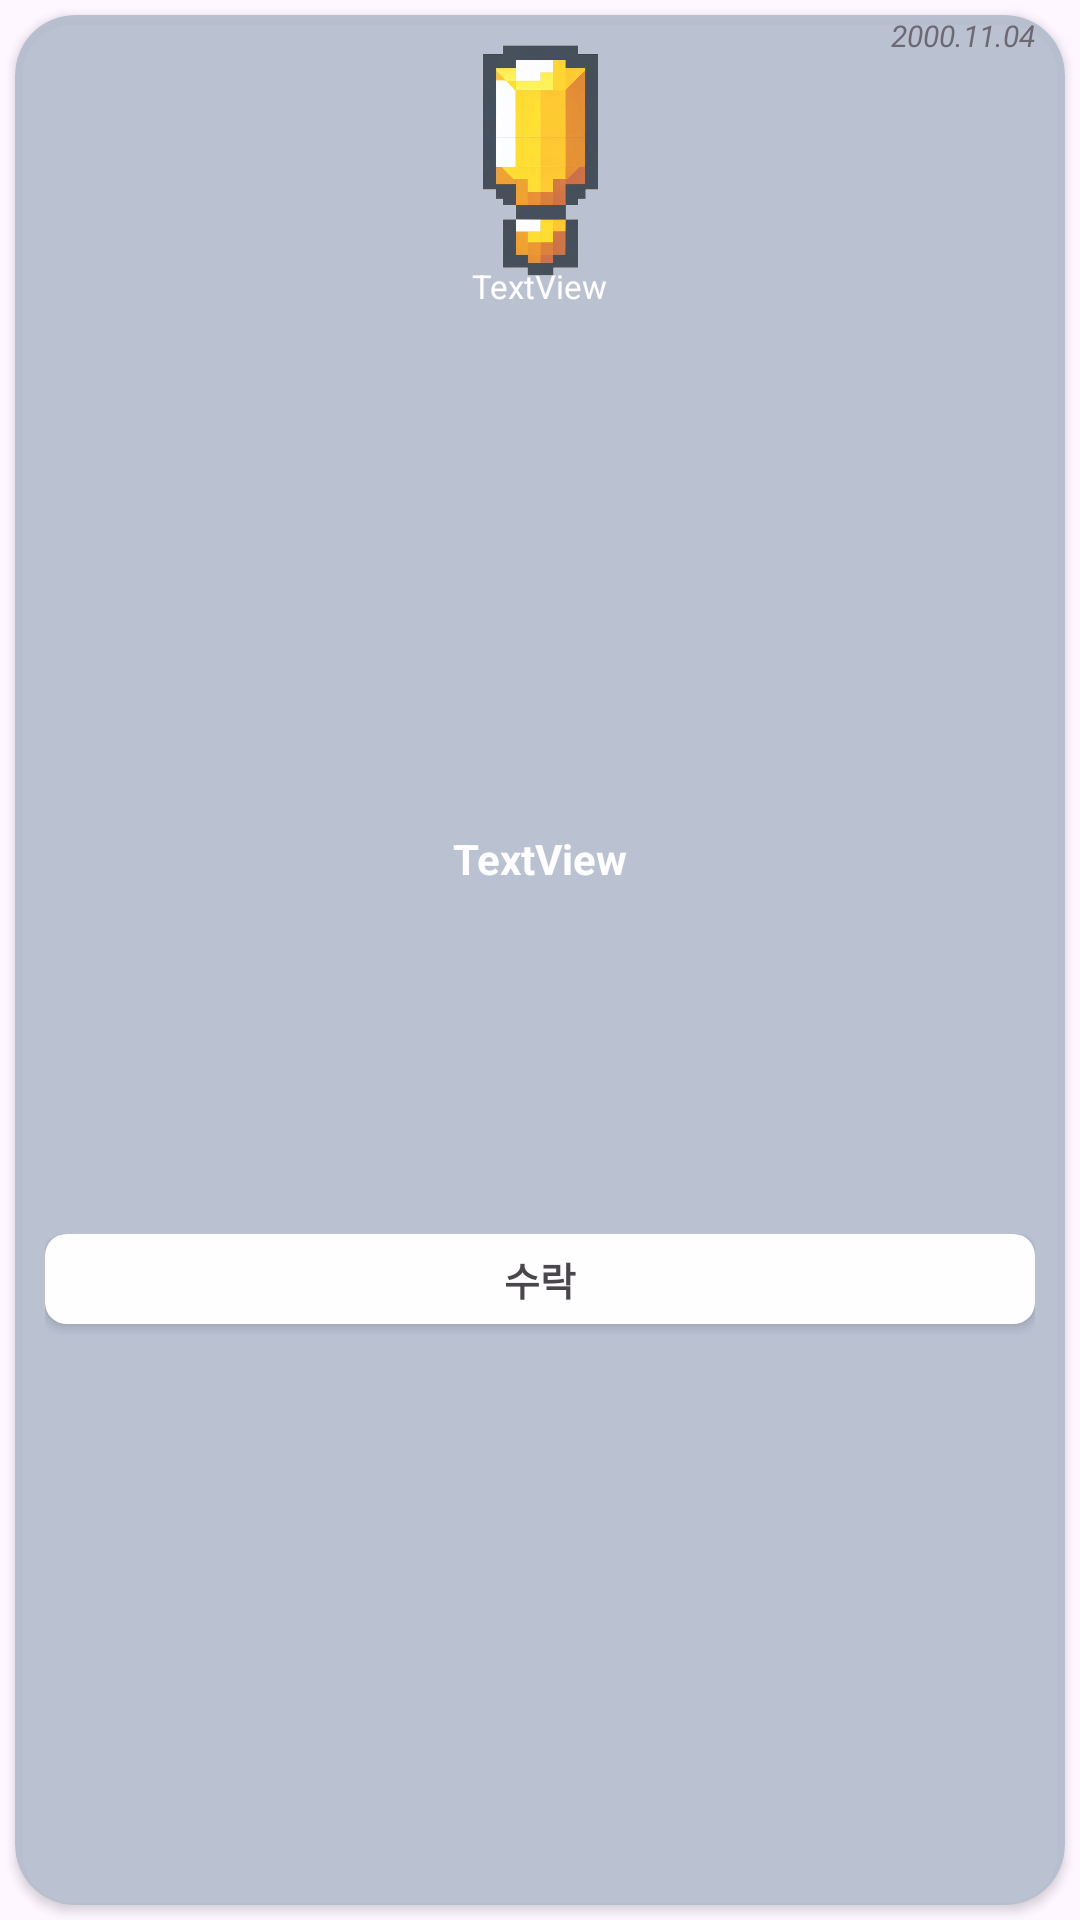

Where to tap for icons on this 1080*1920 app screen, as (x,y):
quest: (535,160)
